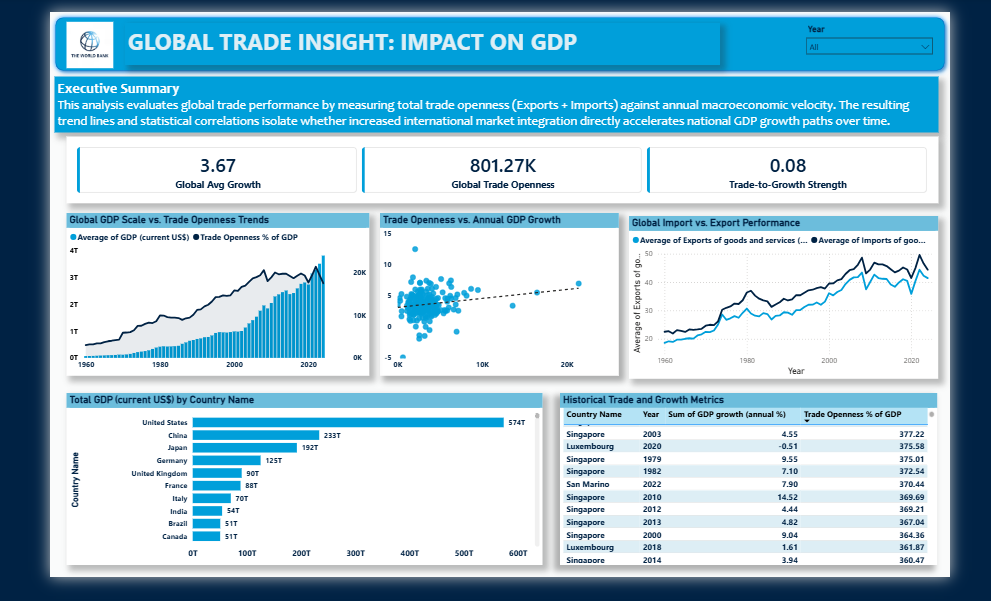

What the dashboard file says about the page in this screenshot:
{"tool":"powerbi","page":{"name":"Global Trade Insight","canvas":[1500,942],"ordinal":0},"visuals":[{"type":"shape","box":[0,0,1500,106.7],"z":0},{"type":"textbox","box":[6.7,106.7,1473.3,93.3],"z":1000},{"type":"slicer","fields":{"Values":["WDICSV.Year"]},"box":[1248.9,15.6,231.1,64.4],"z":2000},{"type":"cardVisual","fields":{"Data":["Avg(WDICSV.GDP growth (annual %))","WDICSV.Trade Openness % of GDP","WDICSV.Trade Openness % of GDP and GDP growth (annual %) correlation for Year"]},"box":[26.7,206.7,1453.3,111.1],"z":3000},{"type":"scatterChart","title":"Trade Openness vs. Annual GDP Growth","fields":{"X":["WDICSV.Trade Openness % of GDP"],"Y":["Avg(WDICSV.GDP growth (annual %))"],"Category":["WDICSV.Country Name"]},"box":[548.9,335.6,397.8,271.1],"z":4000},{"type":"lineClusteredColumnComboChart","title":"Global GDP Scale vs. Trade Openness Trends","fields":{"Category":["WDICSV.Year.Variation.Date Hierarchy.Year"],"Y":["Avg(WDICSV.GDP (current US$))"],"Y2":["WDICSV.Trade Openness % of GDP"]},"box":[26.7,335.6,504.4,271.1],"z":5000},{"type":"lineChart","title":"Global Import vs. Export Performance","fields":{"Category":["WDICSV.Year.Variation.Date Hierarchy.Year"],"Y":["Avg(WDICSV.Exports of goods and services (% of GDP))","Avg(WDICSV.Imports of goods and services (% of GDP))"]},"box":[964.4,340,515.6,271.1],"z":6000},{"type":"clusteredBarChart","fields":{"Category":["WDICSV.Country Name"],"Y":["Sum(WDICSV.GDP (current US$))"]},"box":[26.7,635.6,793.3,286.7],"z":7000},{"type":"tableEx","title":" Historical Trade and Growth Metrics","fields":{"Values":["WDICSV.Country Name","WDICSV.Year","Sum(WDICSV.GDP growth (annual %))","WDICSV.Trade Openness % of GDP"]},"box":[851.1,635.6,628.9,286.7],"z":8000},{"type":"image","box":[26.7,15.6,77.8,80],"z":9000},{"type":"textbox","box":[124.4,17.8,991.1,71.1],"z":10000}]}

Visuals, with their boxes on the page's 1500x942 design canvas (x1, y1, x2, y2). These are canvas units, not pixel positions in the 991x601 screenshot, which may show the page scaled, cropped or inside an application window:
shape: (0, 0, 1500, 107)
textbox: (7, 107, 1480, 200)
slicer - WDICSV.Year: (1249, 16, 1480, 80)
cardVisual - Avg(WDICSV.GDP growth (annual %)) x WDICSV.Trade Openness % of GDP: (27, 207, 1480, 318)
"Trade Openness vs. Annual GDP Growth" scatterChart: (549, 336, 947, 607)
"Global GDP Scale vs. Trade Openness Trends" lineClusteredColumnComboChart: (27, 336, 531, 607)
"Global Import vs. Export Performance" lineChart: (964, 340, 1480, 611)
clusteredBarChart - WDICSV.Country Name x Sum(WDICSV.GDP (current US$)): (27, 636, 820, 922)
" Historical Trade and Growth Metrics" tableEx: (851, 636, 1480, 922)
image: (27, 16, 104, 96)
textbox: (124, 18, 1116, 89)
